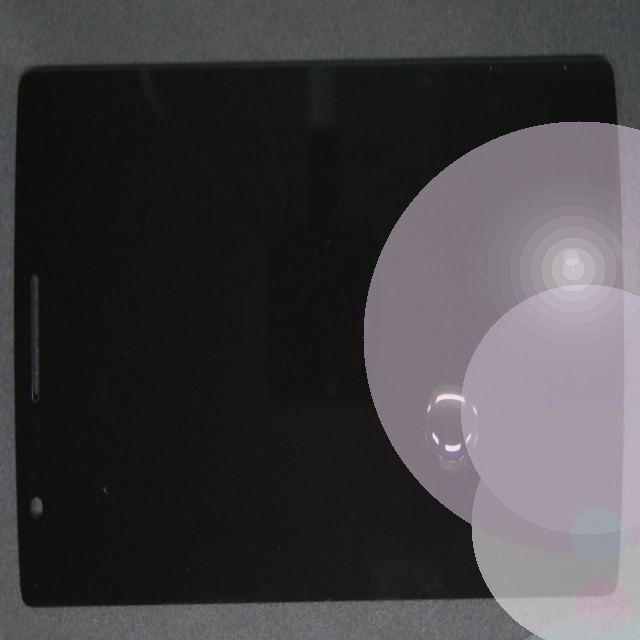oil: (242, 240, 640, 640)
